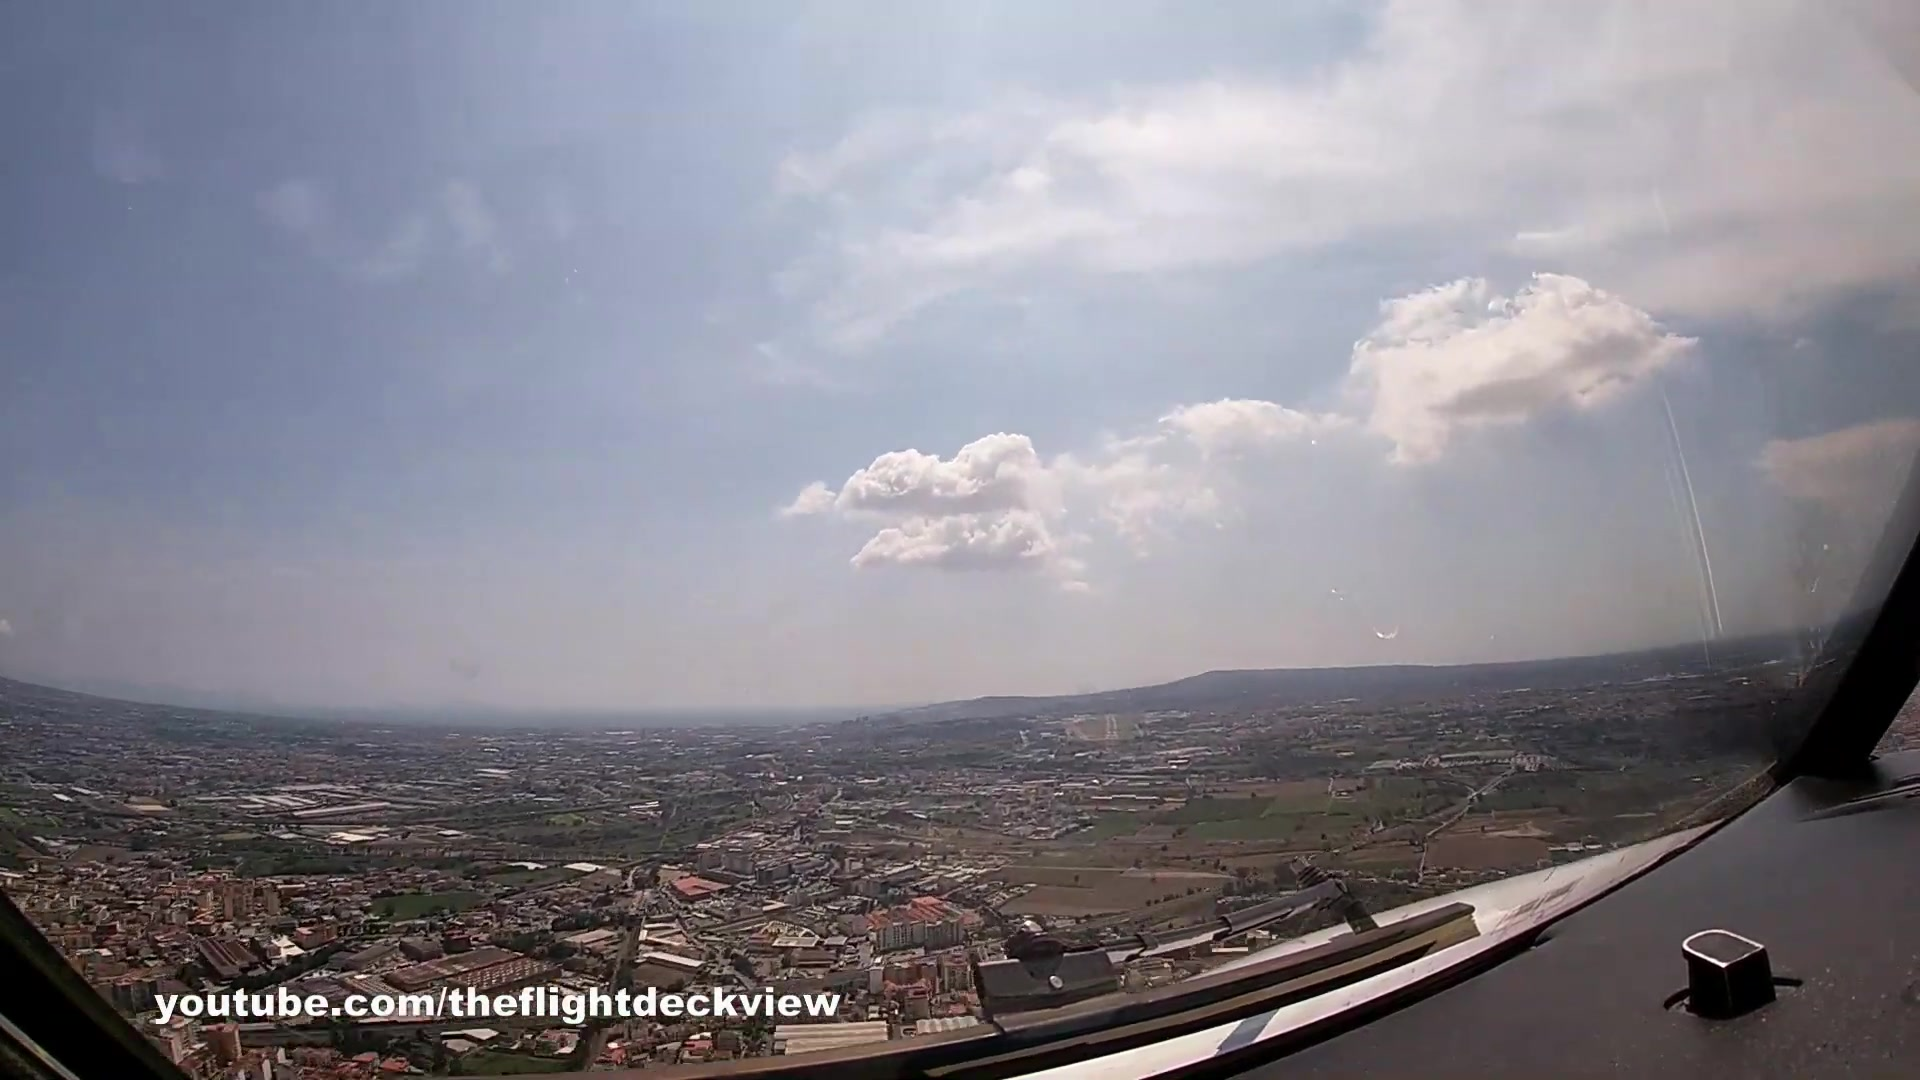runway: (1102, 713, 1120, 741)
